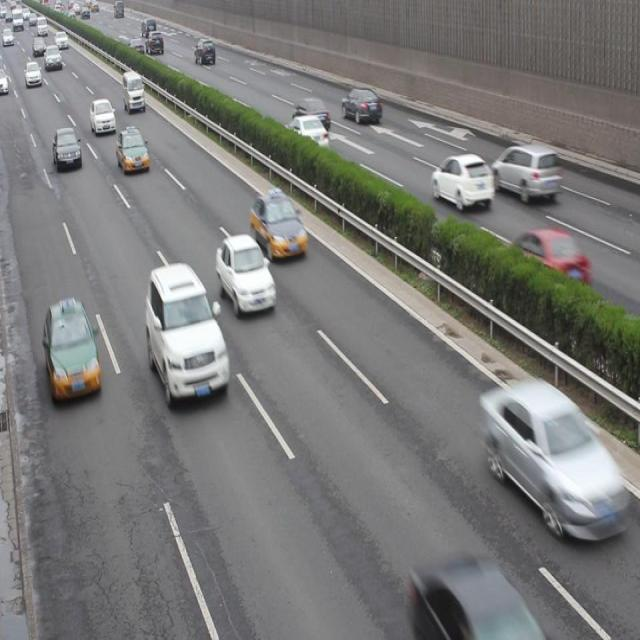car: (479, 372, 623, 538), (410, 548, 542, 640), (145, 260, 228, 406), (502, 226, 590, 296), (43, 296, 100, 404), (216, 232, 276, 316), (490, 140, 558, 203), (249, 188, 307, 261), (430, 153, 494, 211), (116, 126, 151, 177), (340, 85, 380, 126), (284, 114, 327, 152), (52, 124, 82, 169), (293, 96, 330, 129), (90, 97, 118, 136)
truck: (123, 71, 145, 113)
